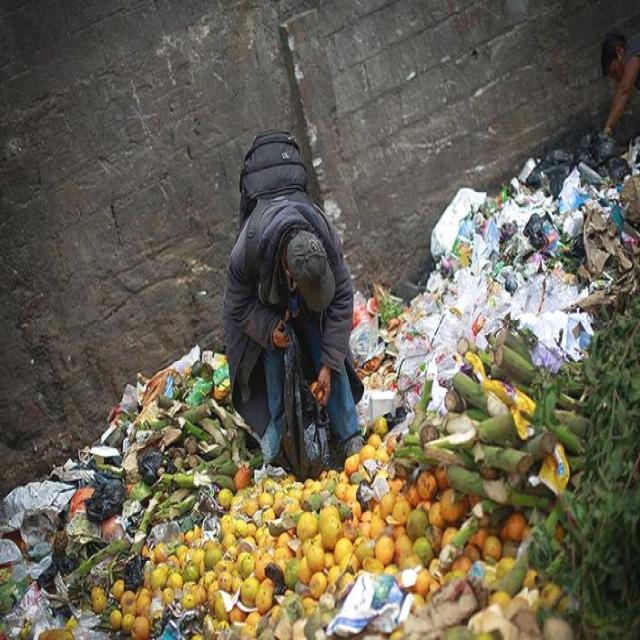inorganic: (241, 123, 308, 222), (4, 478, 74, 546), (63, 474, 125, 547), (286, 232, 340, 304), (347, 292, 381, 366), (441, 202, 478, 266), (552, 182, 591, 233)
organic: (498, 331, 535, 369), (376, 286, 406, 328), (441, 624, 476, 639), (496, 555, 516, 576), (156, 392, 175, 410), (389, 477, 404, 494)
